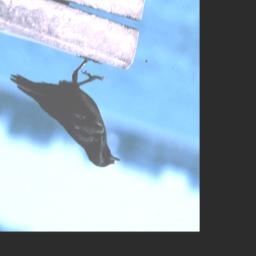Crow: (0, 33, 138, 177)
